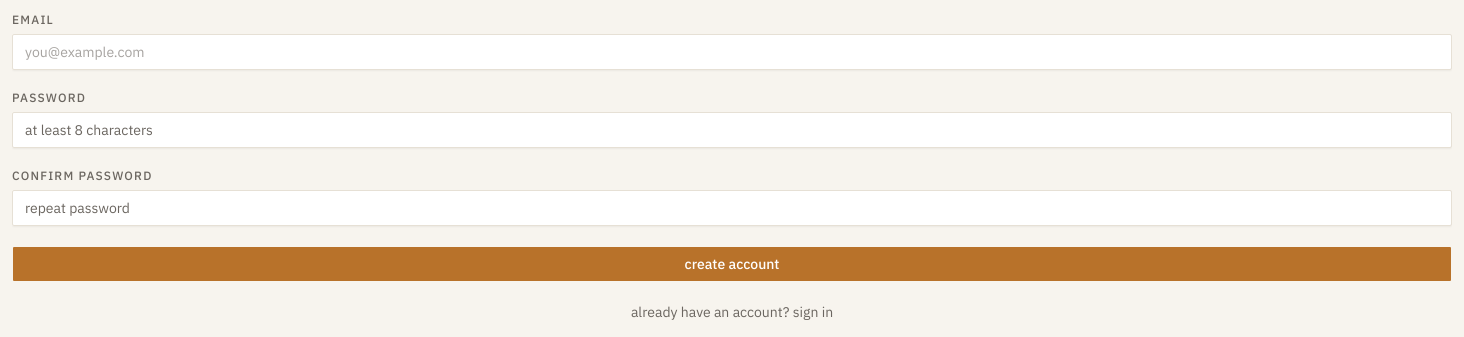
SignupForm › shows confirmation message when signUp returns no session (email confirmation required)
In the field labelled "Email": (732, 52) left=12, top=34, right=1452, bottom=70, type "new@example.com"
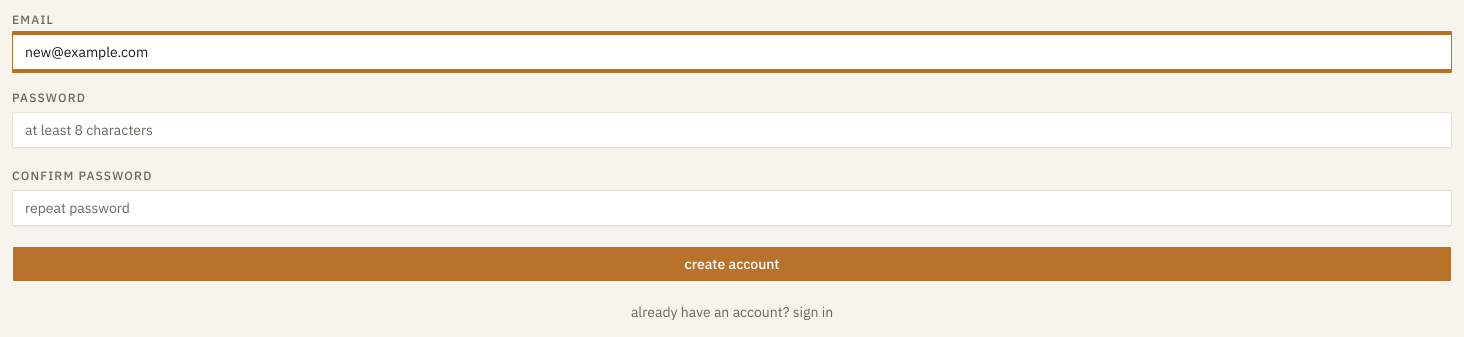
In the password field labelled "Password": (732, 130) left=12, top=112, right=1452, bottom=148, type "securePass1"
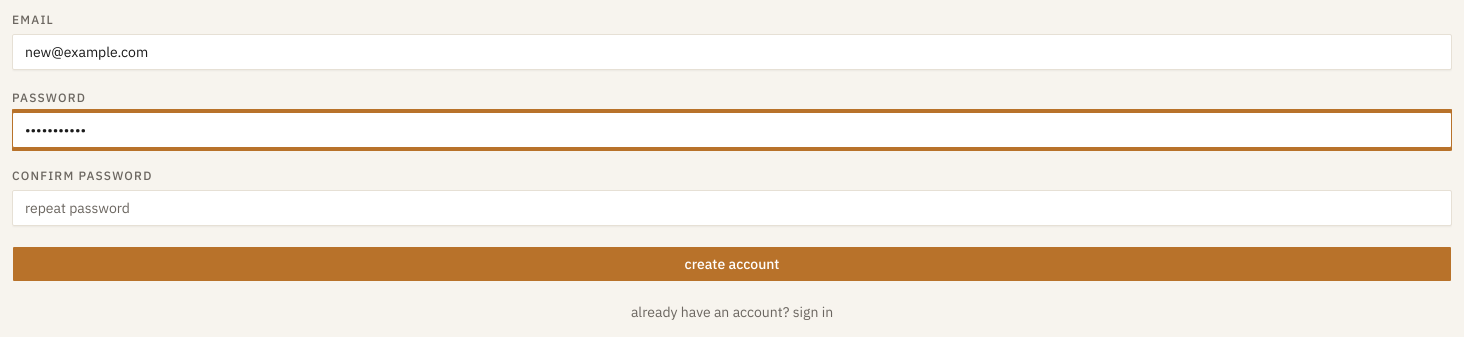
In the password field labelled "Confirm Password": (732, 208) left=12, top=190, right=1452, bottom=226, type "securePass1"
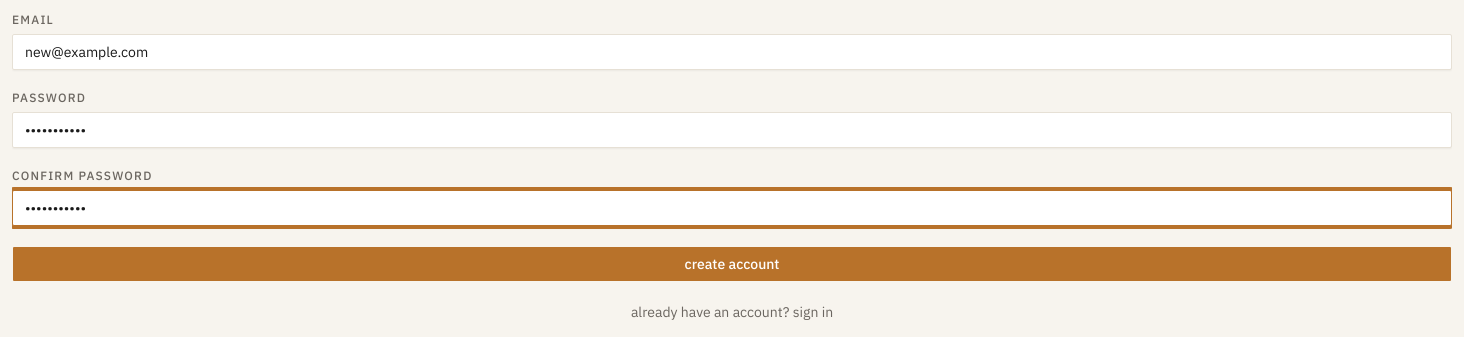
Click the button with test id "signup-submit": (732, 264) left=12, top=246, right=1452, bottom=282
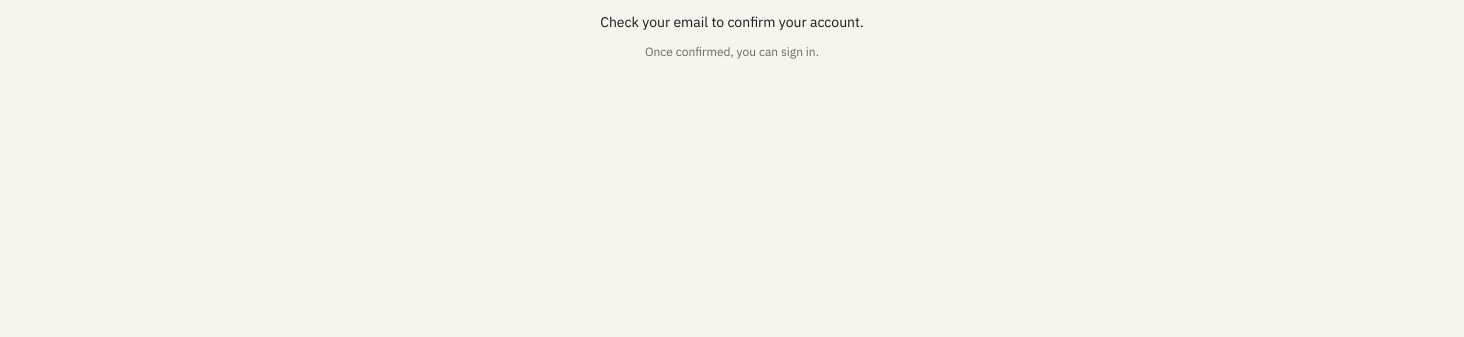
Expected: the element with test id "signup-confirmation" is shown, left=600, top=13, right=864, bottom=59
Expected: the text "Check your email to confirm your account." is shown, left=600, top=13, right=864, bottom=31
